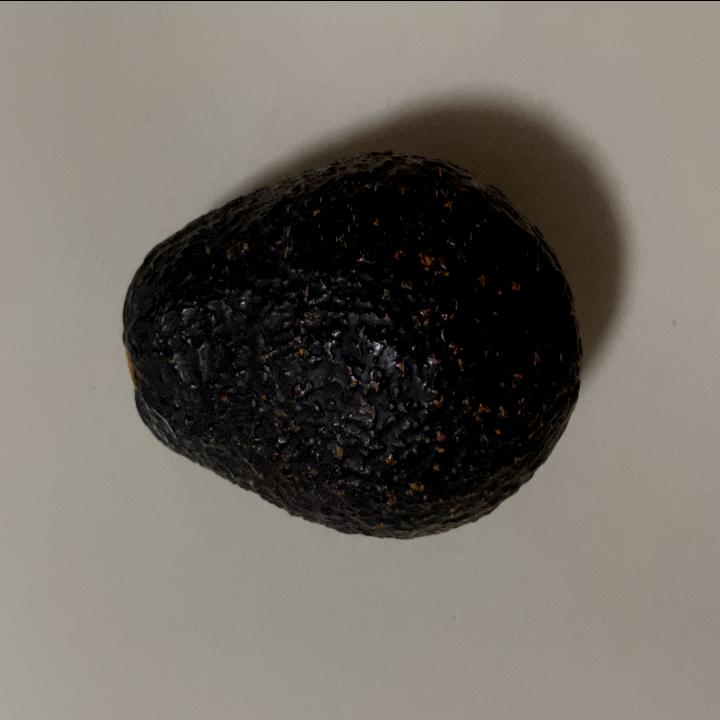Level2: (118, 143, 584, 545)
